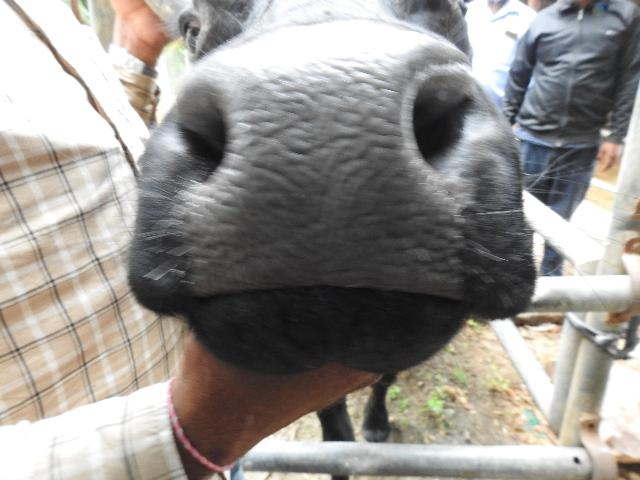Muzzle: (211, 66, 469, 296)
